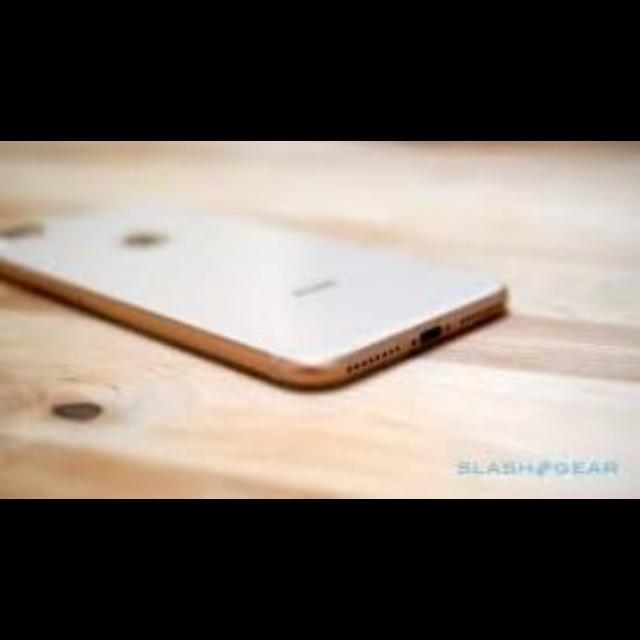phone: (17, 168, 540, 420)
